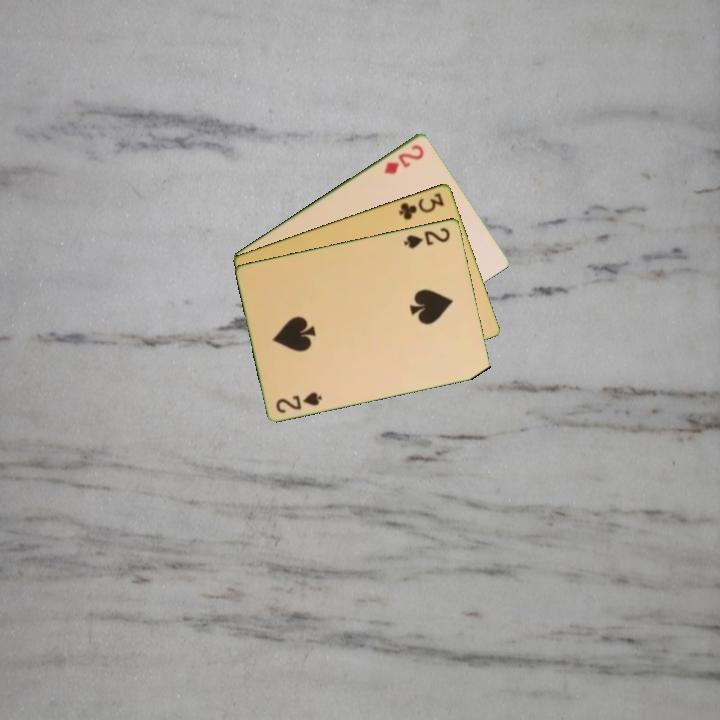2d: (380, 140, 427, 177)
2s: (273, 388, 325, 416), (400, 224, 453, 251)
3c: (395, 189, 447, 222)
